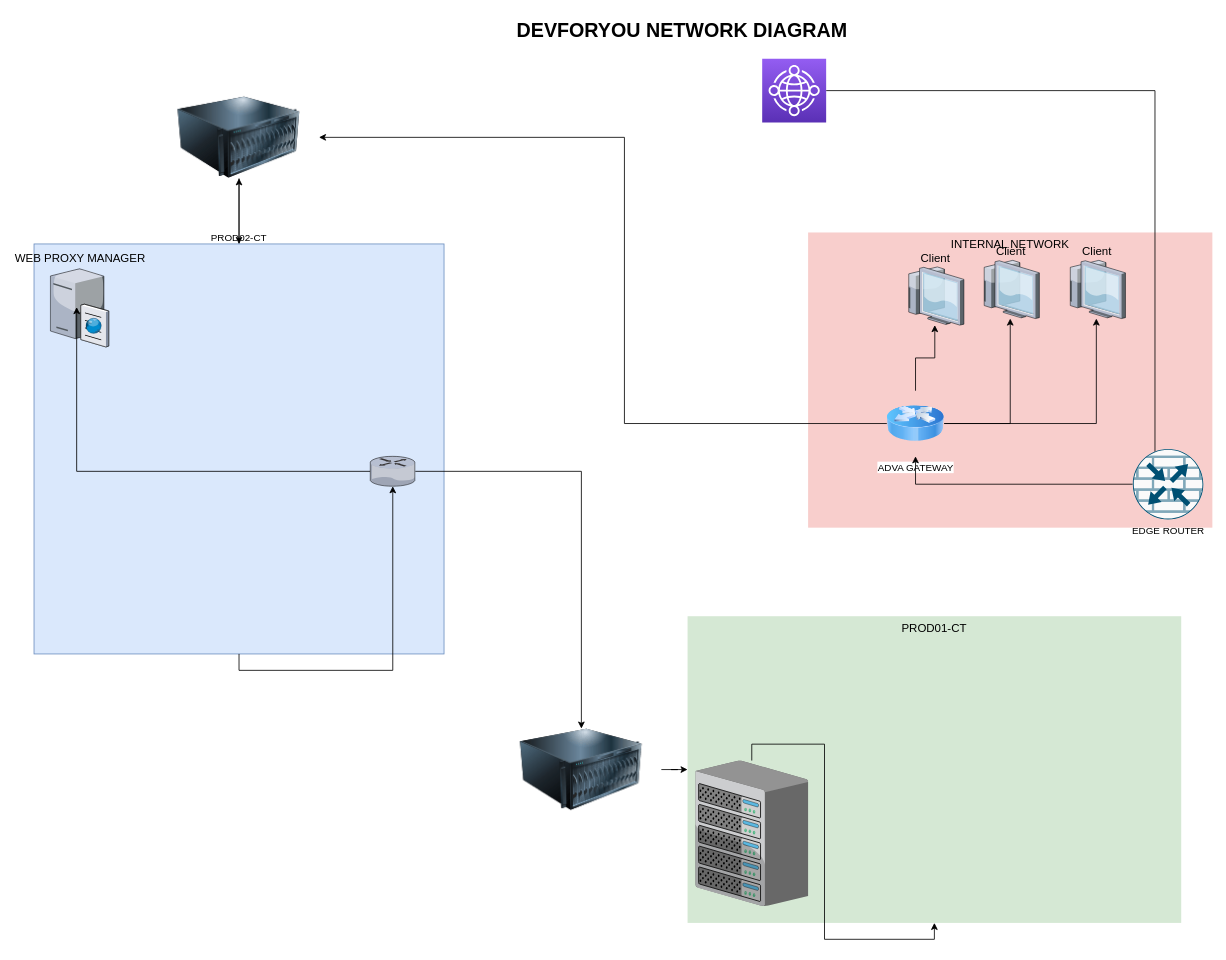
Image size: 1226x960. Some labels were removed from this diagram. The centre of each missing label's shape, as x and y in pixels:
DNS: pixel 751 833
HAPROXY IN CLUSTER MODE: pixel 392 471
PROD01-UNIT: pixel 581 769
PROD02-UNIT: pixel 239 137
WAN: pixel 793 90
